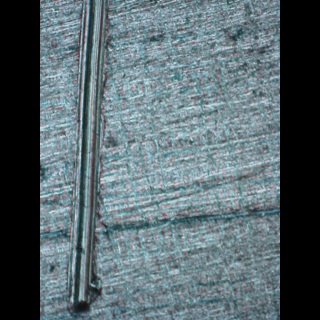d: (61, 0, 118, 317)
